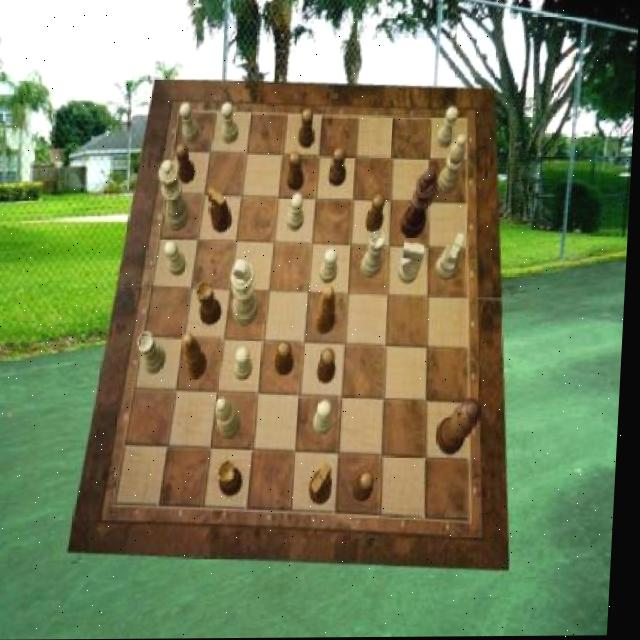bishop: (185, 334, 211, 380), (318, 287, 341, 335)
black-bishop: (401, 168, 439, 238)
black-king: (209, 188, 236, 234), (313, 464, 338, 506)
black-knight: (176, 143, 199, 183), (298, 109, 317, 149), (368, 194, 387, 233), (321, 347, 341, 384), (329, 149, 348, 187), (356, 471, 379, 502), (288, 152, 306, 191), (279, 341, 298, 376)
black-pawn: (440, 399, 487, 457)
black-queen: (198, 282, 225, 326), (221, 460, 247, 496)
black-rook: (439, 135, 468, 194), (219, 397, 245, 439)
white-bishop: (231, 260, 263, 326)
white-king: (438, 234, 467, 282), (399, 242, 427, 285)
white-knight: (437, 108, 460, 150), (180, 104, 202, 145), (166, 241, 190, 275), (221, 103, 240, 145), (316, 401, 338, 436), (288, 193, 306, 231), (238, 347, 257, 382), (322, 249, 341, 283)
white-pawn: (157, 160, 193, 232)
white-queen: (139, 333, 169, 375), (363, 232, 387, 278)
